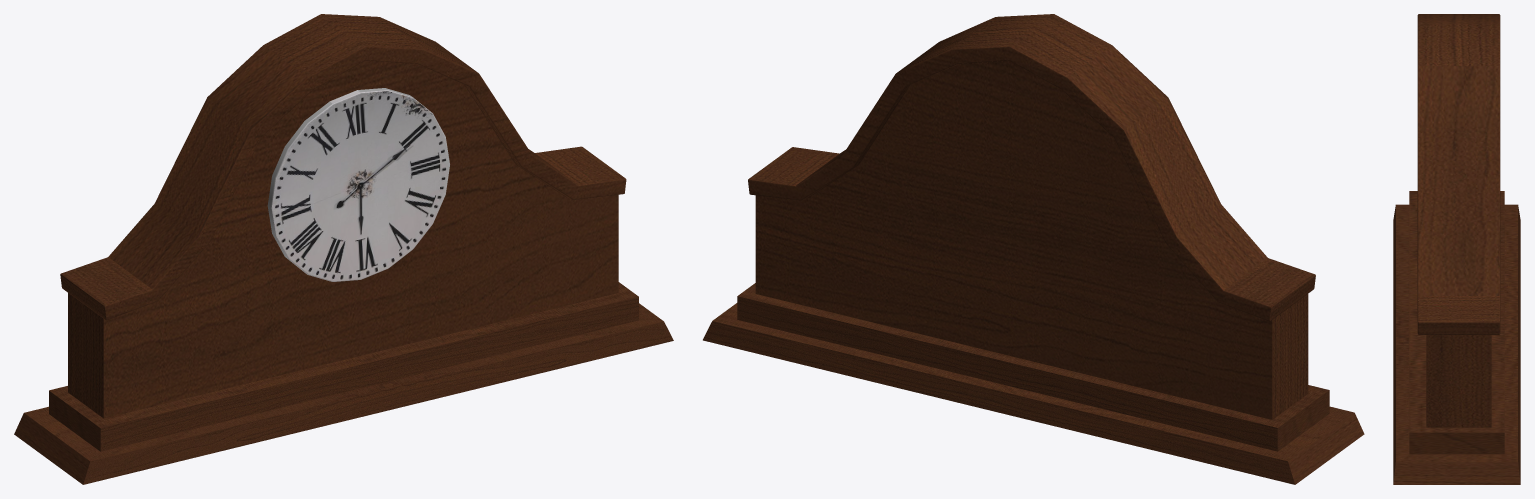
File: clock.fbx
The picture shows the model from 3 angles, left to right: view 1: azimuth 30°, elevation 25°; view 2: azimuth 150°, elevation 25°; view 3: azimuth 270°, elevation 25°; orthographic projection. The views are drawn at different scales.
Visible parts, largest first — view 1: clockBody, clockBase, clockTex; view 2: clockBody, clockBase; view 3: clockBody, clockBase.
Boxes of the visible parts, x1,y1,x2,y2 form: clockBody: (60,14,626,418); clockBase: (14,282,673,484); clockTex: (267,88,449,281); clockBody: (748,14,1315,419); clockBase: (703,283,1364,484); clockBody: (1417,14,1500,427); clockBase: (1393,191,1520,484).
Size of the model in its own units: 20.28 by 11.7 by 4.11.
